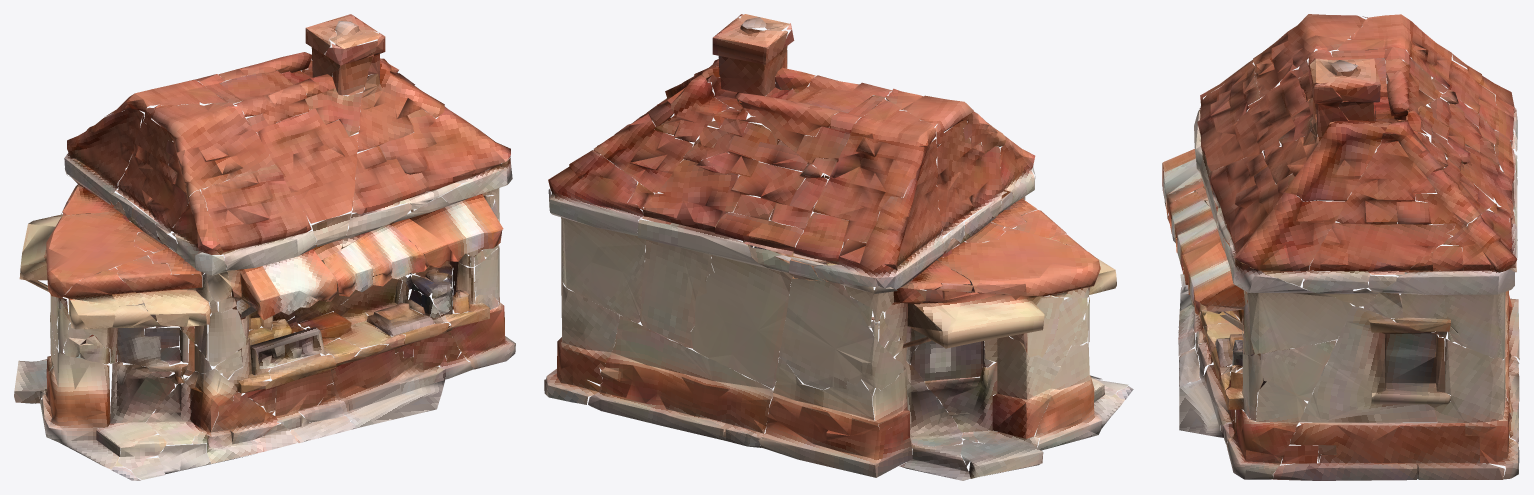
Rendered from cafe_kiosk.glb.
The picture shows the model from 3 angles, left to right: view 1: azimuth 30°, elevation 25°; view 2: azimuth 150°, elevation 25°; view 3: azimuth 270°, elevation 25°; orthographic projection. The views are drawn at different scales.
Visible parts, largest first — view 1: tripo_node_01a21f0d-e605-7b06-b69b-4557aab46c86; view 2: tripo_node_01a21f0d-e605-7b06-b69b-4557aab46c86; view 3: tripo_node_01a21f0d-e605-7b06-b69b-4557aab46c86.
Boxes of the visible parts, x1,y1,x2,y2 form: tripo_node_01a21f0d-e605-7b06-b69b-4557aab46c86: (14,14,515,480); tripo_node_01a21f0d-e605-7b06-b69b-4557aab46c86: (544,14,1133,480); tripo_node_01a21f0d-e605-7b06-b69b-4557aab46c86: (1162,14,1519,480).
Size of the model in its own units: 8 by 5.81 by 5.23.
Materials: 1 (1 with a texture image).
